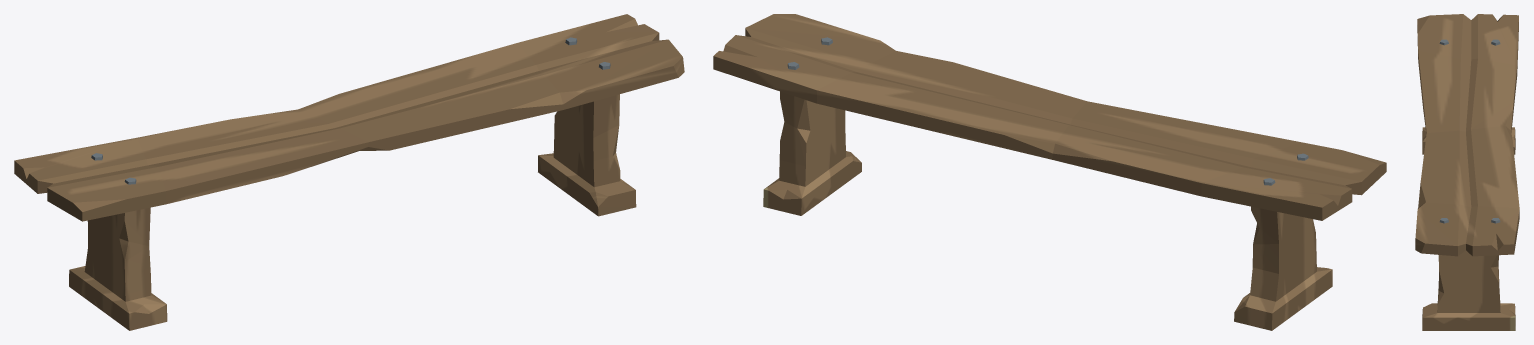
Rendered from SM_Prop_Bench_01.fbx.
3 views of the same model, side by side, from view 1: azimuth 30°, elevation 25°; view 2: azimuth 150°, elevation 25°; view 3: azimuth 270°, elevation 25° (orthographic). The views are drawn at different scales.
Visible parts, largest first — view 1: SM_Prop_Bench_01; view 2: SM_Prop_Bench_01; view 3: SM_Prop_Bench_01.
Part boxes in pixels (x1=…): SM_Prop_Bench_01: x1=14, y1=14, x2=684, y2=330; SM_Prop_Bench_01: x1=713, y1=14, x2=1386, y2=330; SM_Prop_Bench_01: x1=1415, y1=14, x2=1519, y2=330.
Bounding box in the file's own units: 223 × 47.25 × 42.25.
